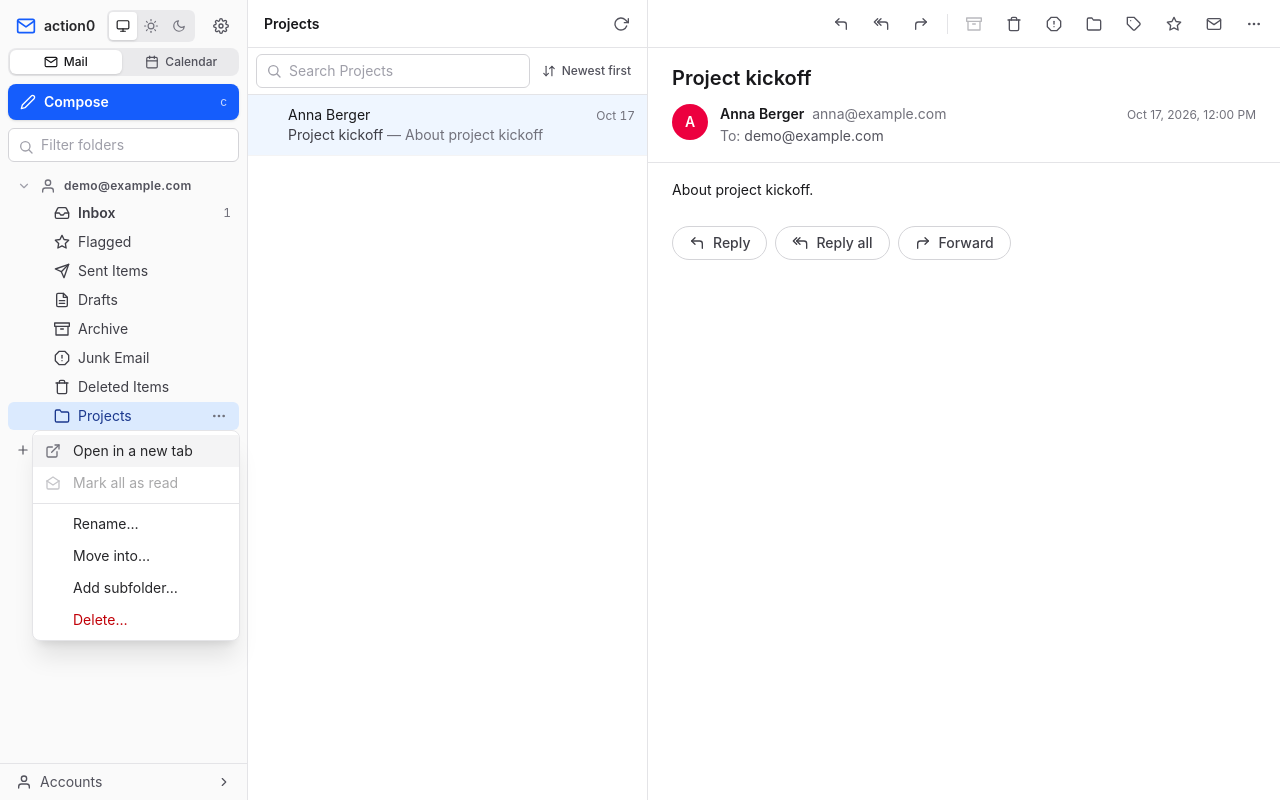
Test: an account with folders (Outlook) › has a folder menu without colours or hiding, and deleting goes to Deleted Items
Click the menu item "Delete…": (136, 620) 33,604 -> 239,636
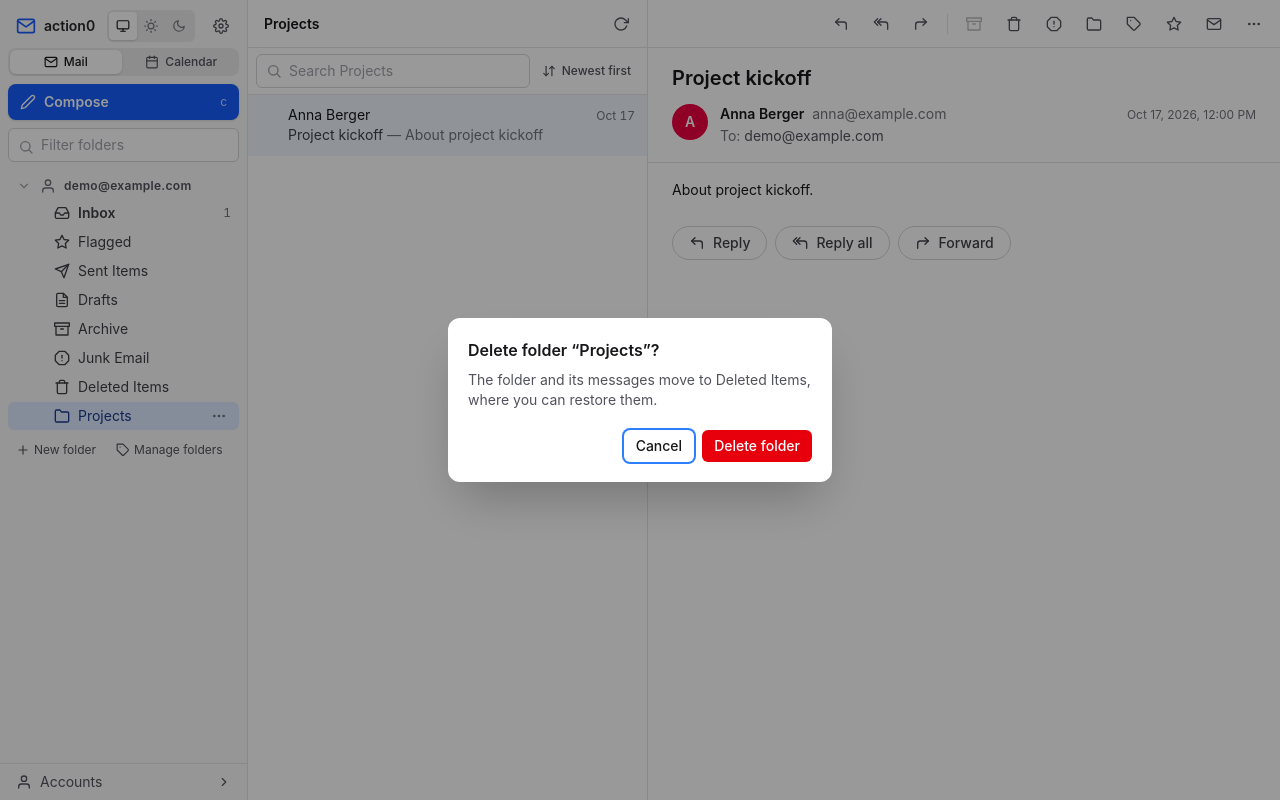
Expected: the dialog "Delete folder “Projects”?" shows "move to Deleted Items", 468,371 -> 811,408
Click the button "Delete folder": (757, 446) 702,430 -> 812,462
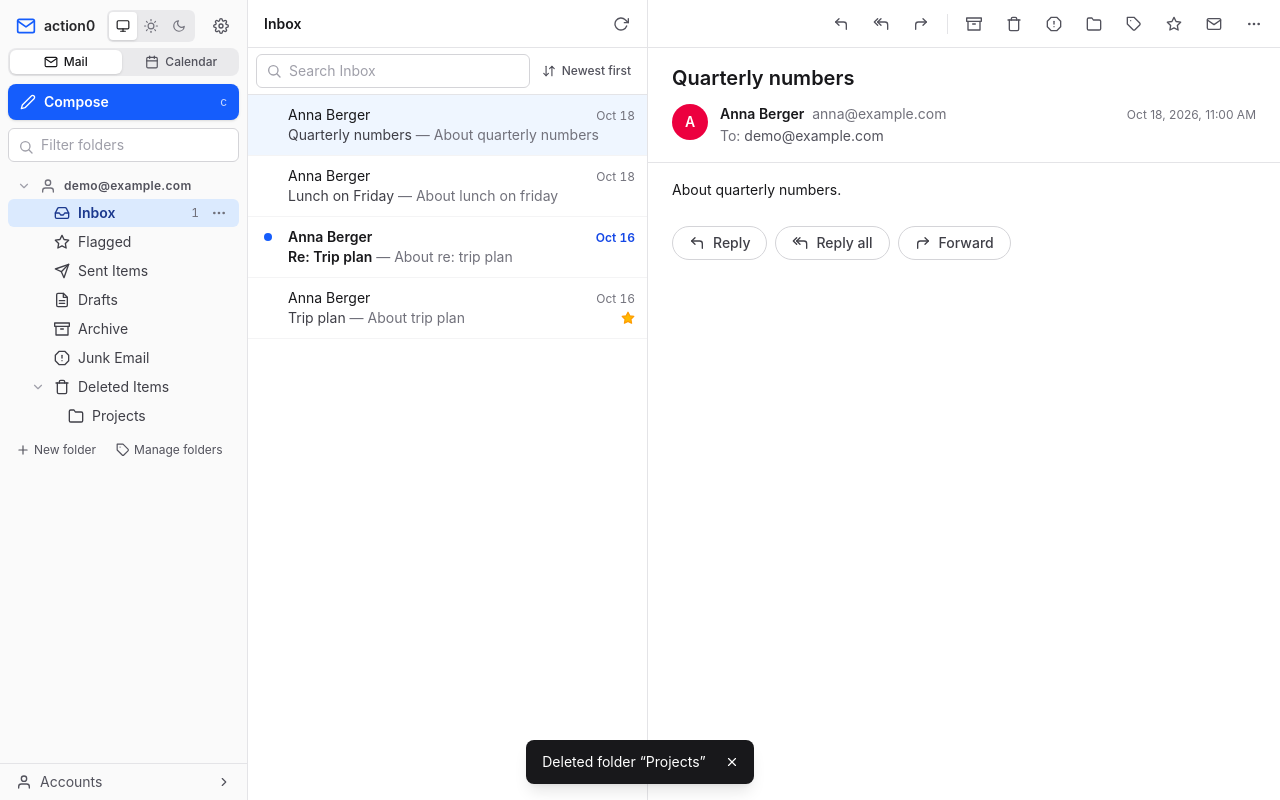
Expected: the text "Deleted folder “Projects”" is shown, 542,752 -> 706,772
